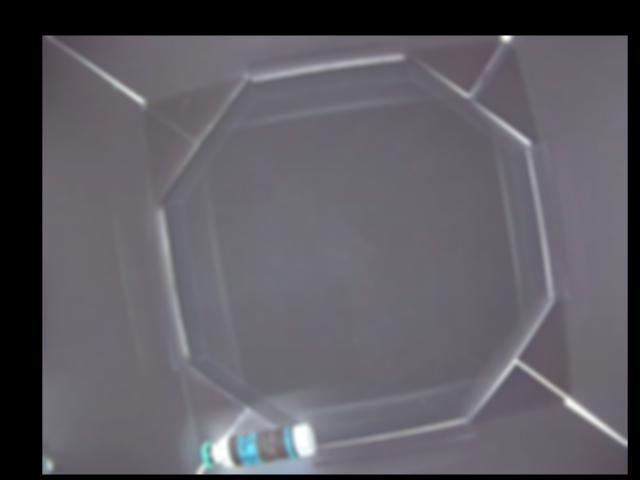Medicine: (199, 419, 314, 469)
